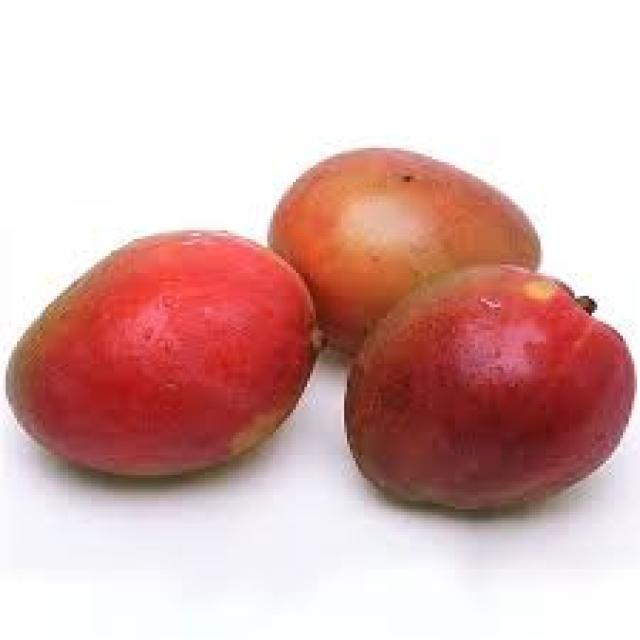mango: (9, 230, 324, 484)
